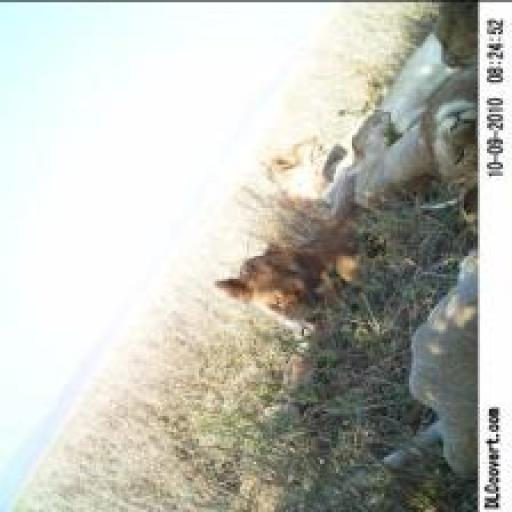lion: (208, 231, 373, 400), (233, 133, 372, 201)
